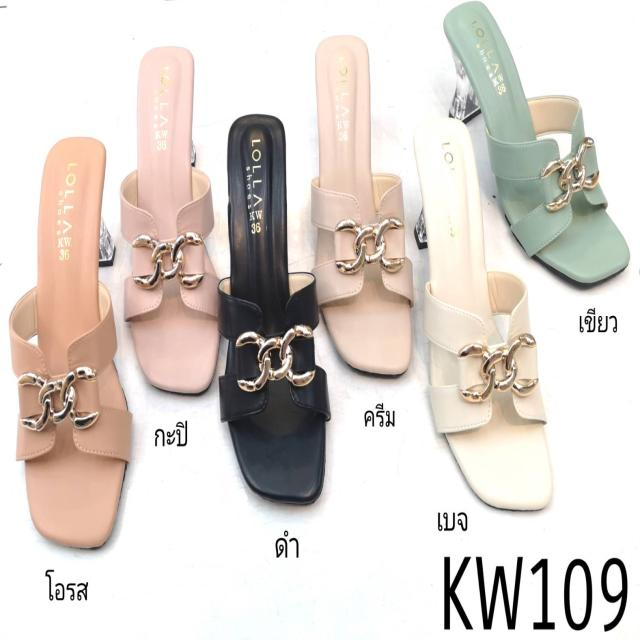bej: (414, 111, 552, 511)
black: (217, 107, 331, 511)
cream: (314, 33, 414, 379)
green: (444, 0, 626, 283)
kapi: (123, 42, 221, 391)
orot: (15, 136, 130, 542)
